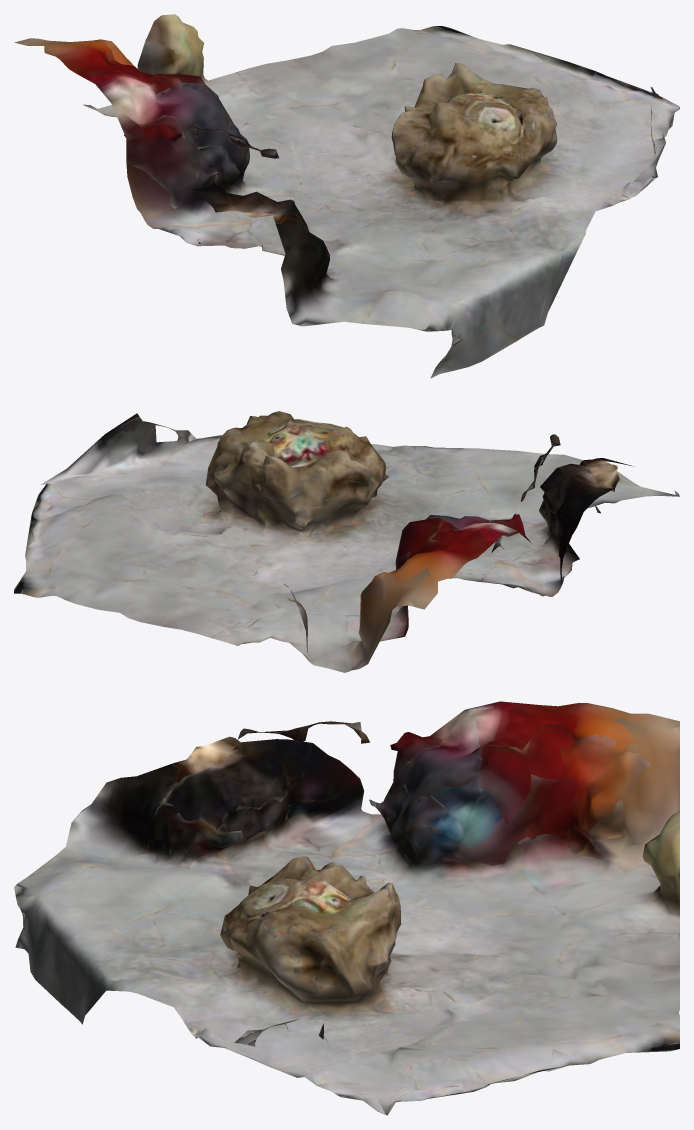
File: hall.glb
3 views of the same model, one above another, from view 1: azimuth 30°, elevation 25°; view 2: azimuth 150°, elevation 25°; view 3: azimuth 270°, elevation 25° (orthographic). The views are drawn at different scales.
Bounding box in the file's own units: 2.86 × 0.8777 × 2.8.
1 material, 1 textured.
